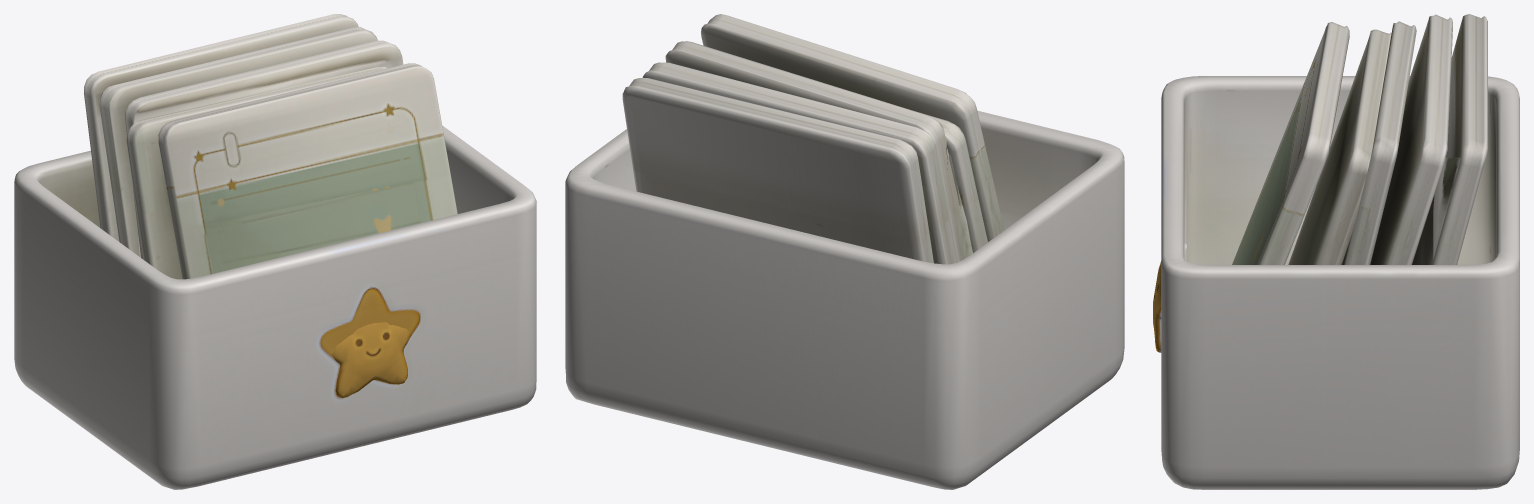
The model's file is small_card_holder.glb.
3 views of the same model, side by side, from view 1: azimuth 30°, elevation 25°; view 2: azimuth 150°, elevation 25°; view 3: azimuth 270°, elevation 25° (orthographic). The views are drawn at different scales.
Parts seen in each view (by area): view 1: tripo_node_67486135-a908-4c04-943a-525de829d199; view 2: tripo_node_67486135-a908-4c04-943a-525de829d199; view 3: tripo_node_67486135-a908-4c04-943a-525de829d199.
Part boxes in pixels (x1=…): tripo_node_67486135-a908-4c04-943a-525de829d199: x1=14, y1=14, x2=536, y2=489; tripo_node_67486135-a908-4c04-943a-525de829d199: x1=565, y1=14, x2=1124, y2=489; tripo_node_67486135-a908-4c04-943a-525de829d199: x1=1153, y1=14, x2=1519, y2=489.
Bounding box in the file's own units: 0.1 × 0.0783 × 0.0783.
Materials: 1 (1 with a texture image).
